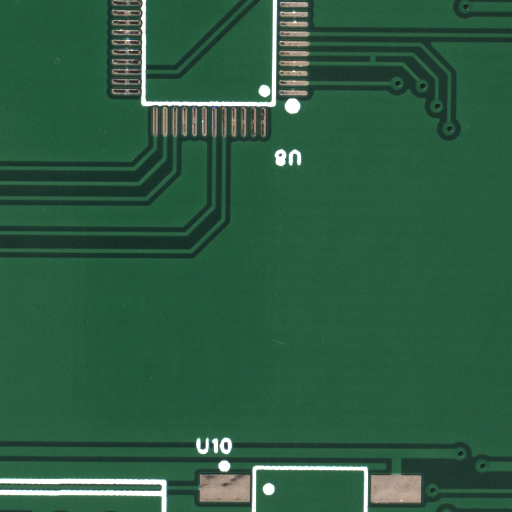Short: (372, 59, 383, 70)
